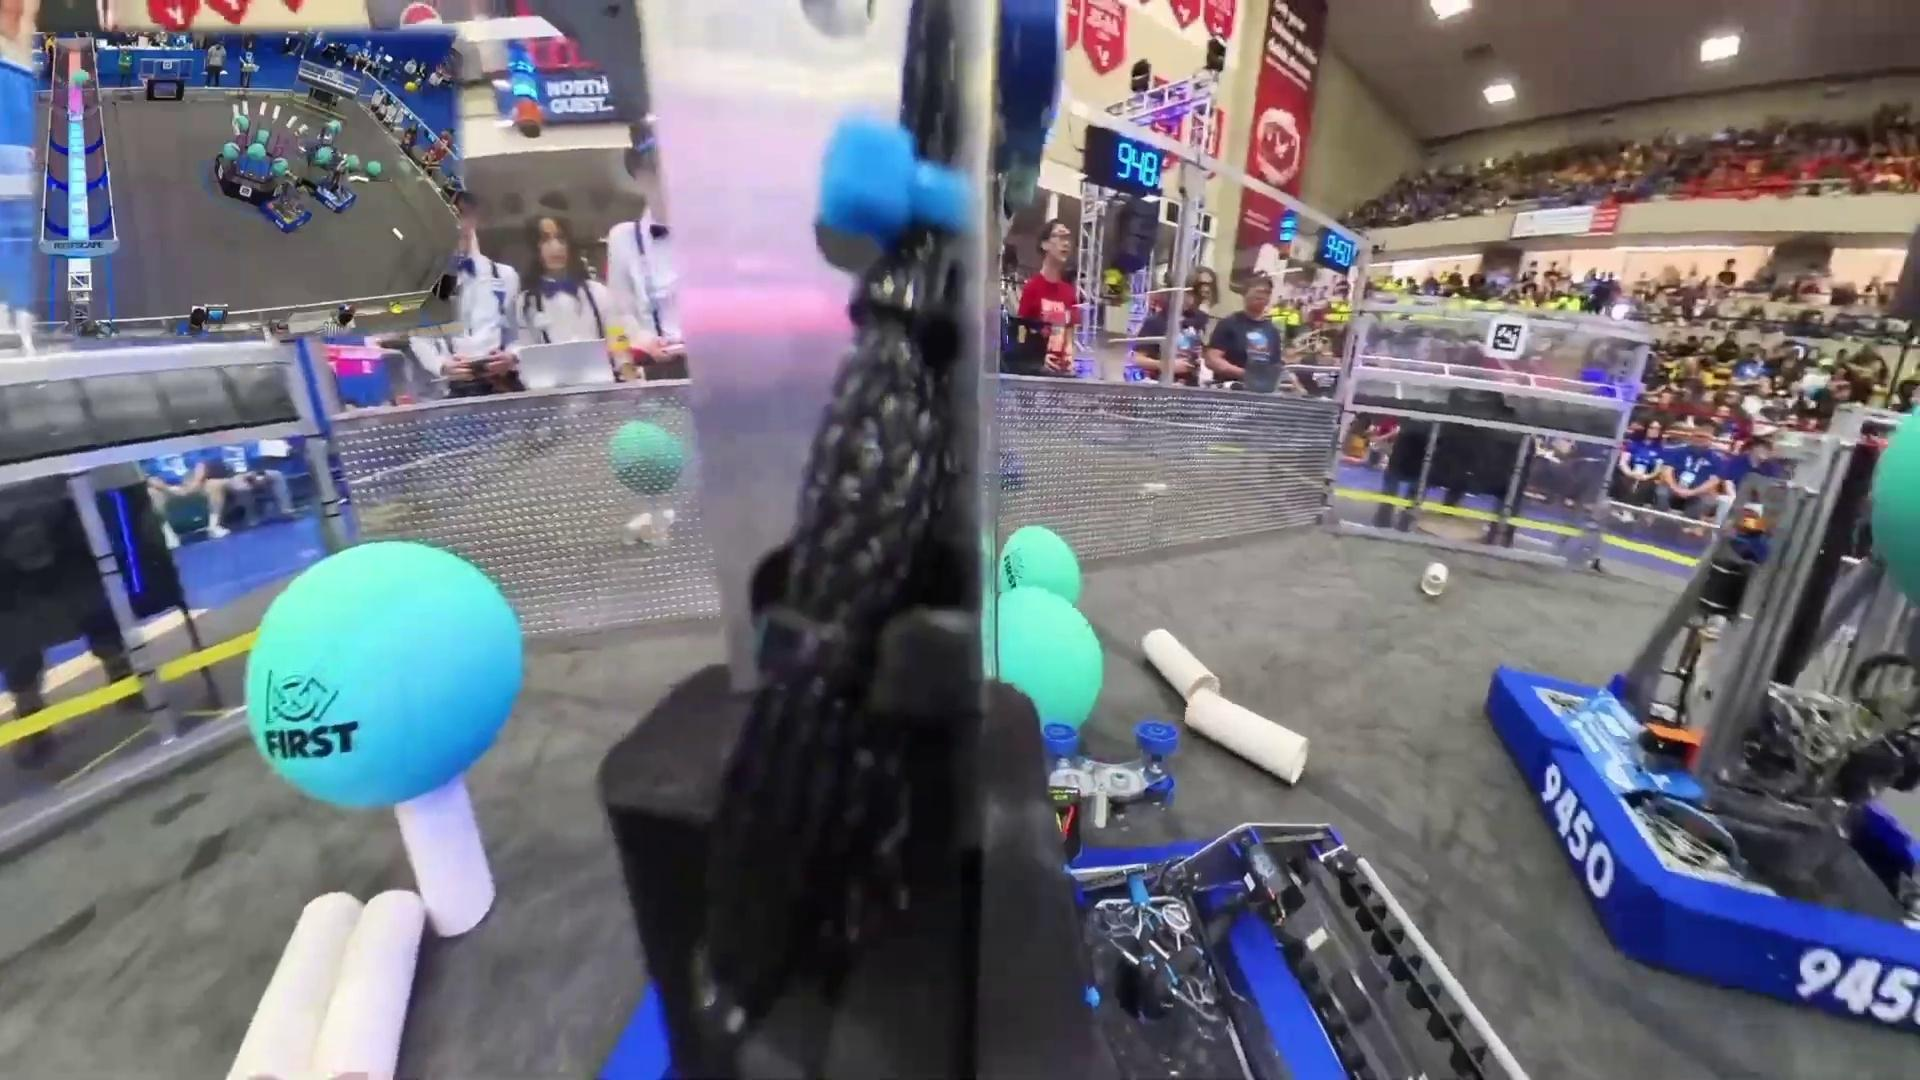robot: (1485, 398, 1920, 1017), (260, 181, 311, 232), (313, 165, 361, 215)
